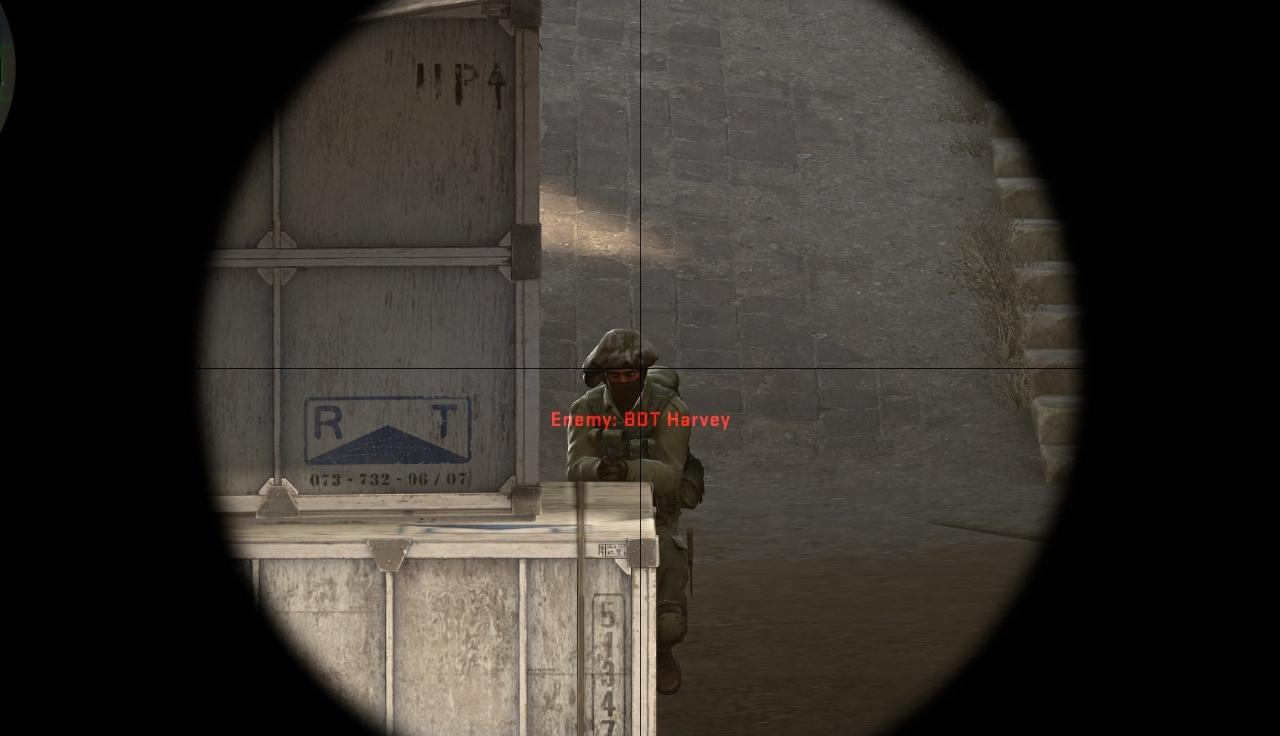ct: (570, 331, 678, 479)
cthead: (603, 333, 640, 402)
